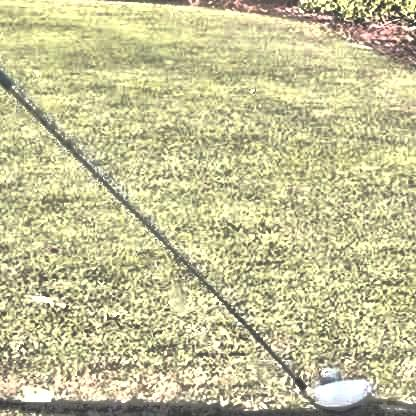golfball: (314, 362, 339, 384)
